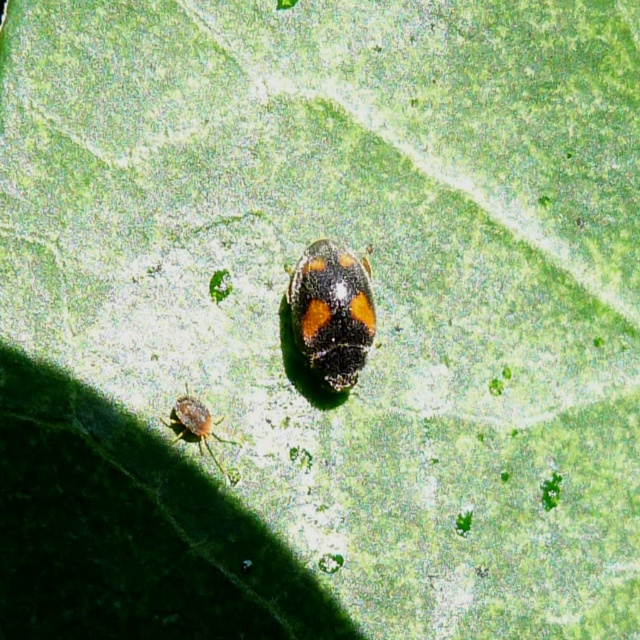Ladybug: (289, 238, 375, 394)
